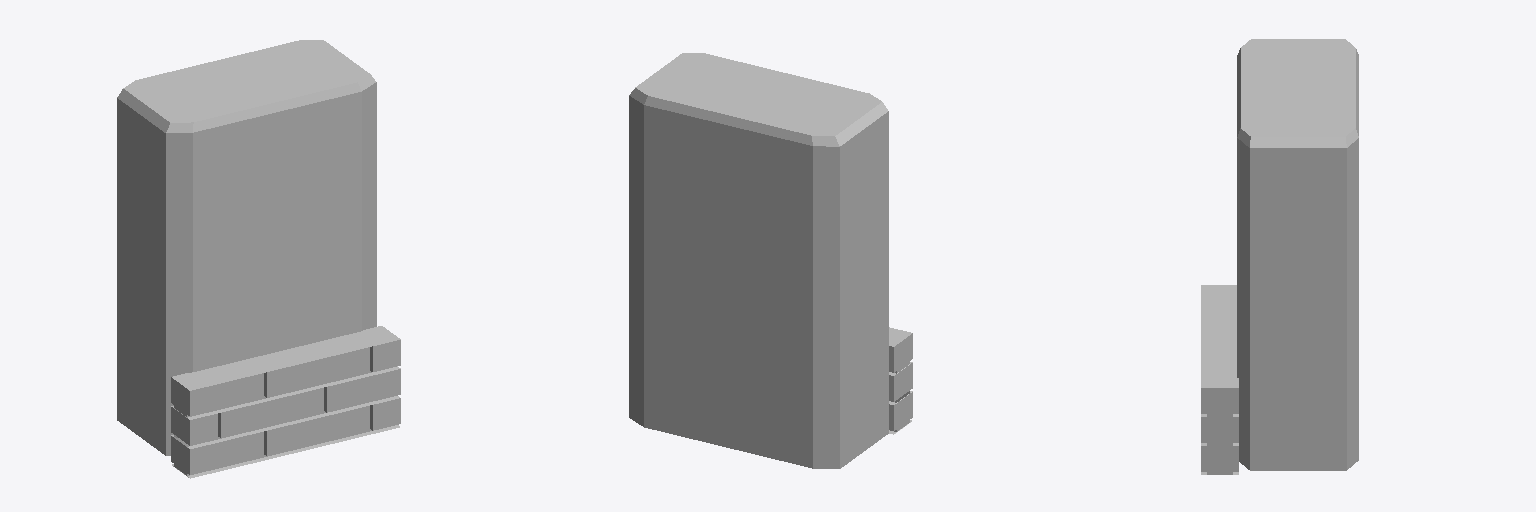
File: Hedge.obj
3 renders of one model, left to right at view 1: azimuth 30°, elevation 25°; view 2: azimuth 150°, elevation 25°; view 3: azimuth 270°, elevation 25°, orthographic.
Visible parts, largest first — view 1: Cube; view 2: Cube; view 3: Cube.
Part boxes in pixels (bbox=[...]): Cube: bbox=[117, 40, 400, 478]; Cube: bbox=[629, 53, 912, 468]; Cube: bbox=[1201, 39, 1358, 474].
Bounding box in the file's own units: 2 × 3.04 × 1.3.